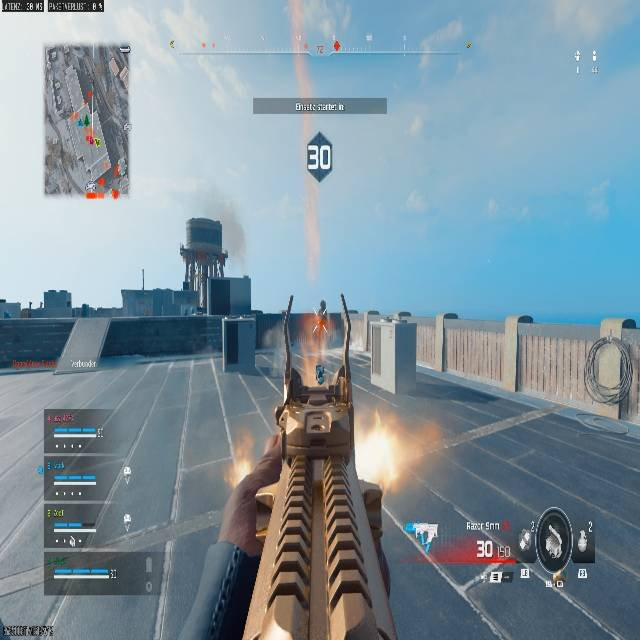player: (315, 363, 325, 384)
